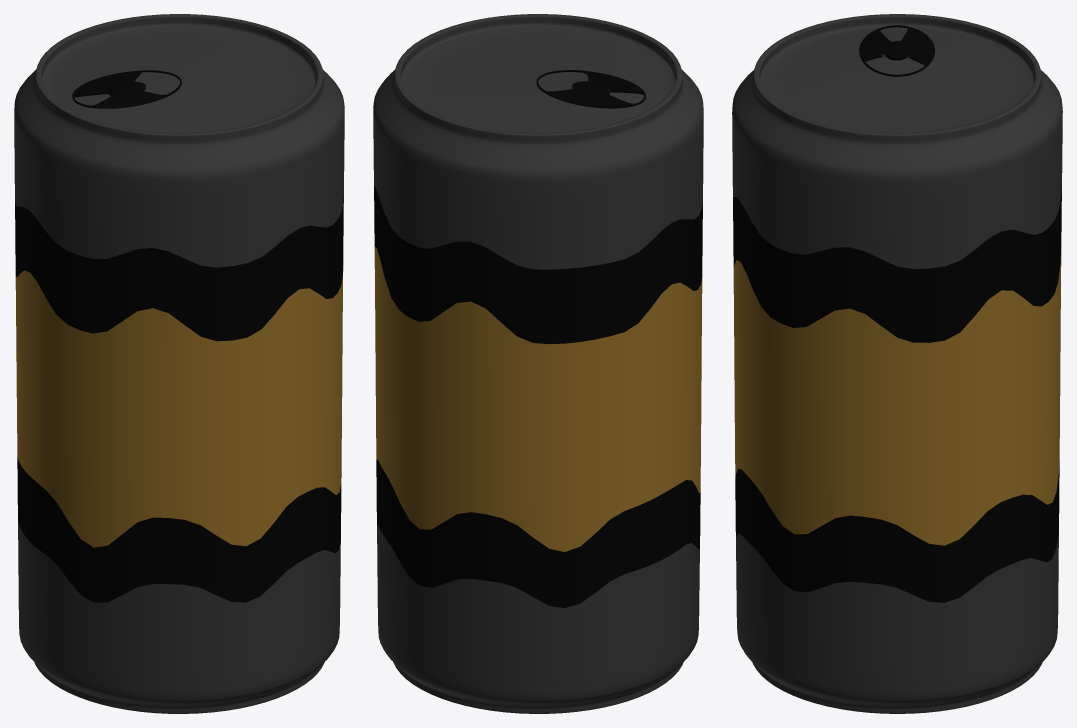
The model's file is orangeenerg.fbx.
3 views of the same model, side by side, from view 1: azimuth 30°, elevation 25°; view 2: azimuth 150°, elevation 25°; view 3: azimuth 270°, elevation 25° (orthographic).
Parts seen in each view (by area): view 1: Цилиндр; view 2: Цилиндр; view 3: Цилиндр.
Boxes of the visible parts, <box> form: Цилиндр: <box>14,14,344,713</box>; Цилиндр: <box>373,14,703,713</box>; Цилиндр: <box>732,14,1062,713</box>.
Size of the model in its own units: 269 by 517 by 269.
